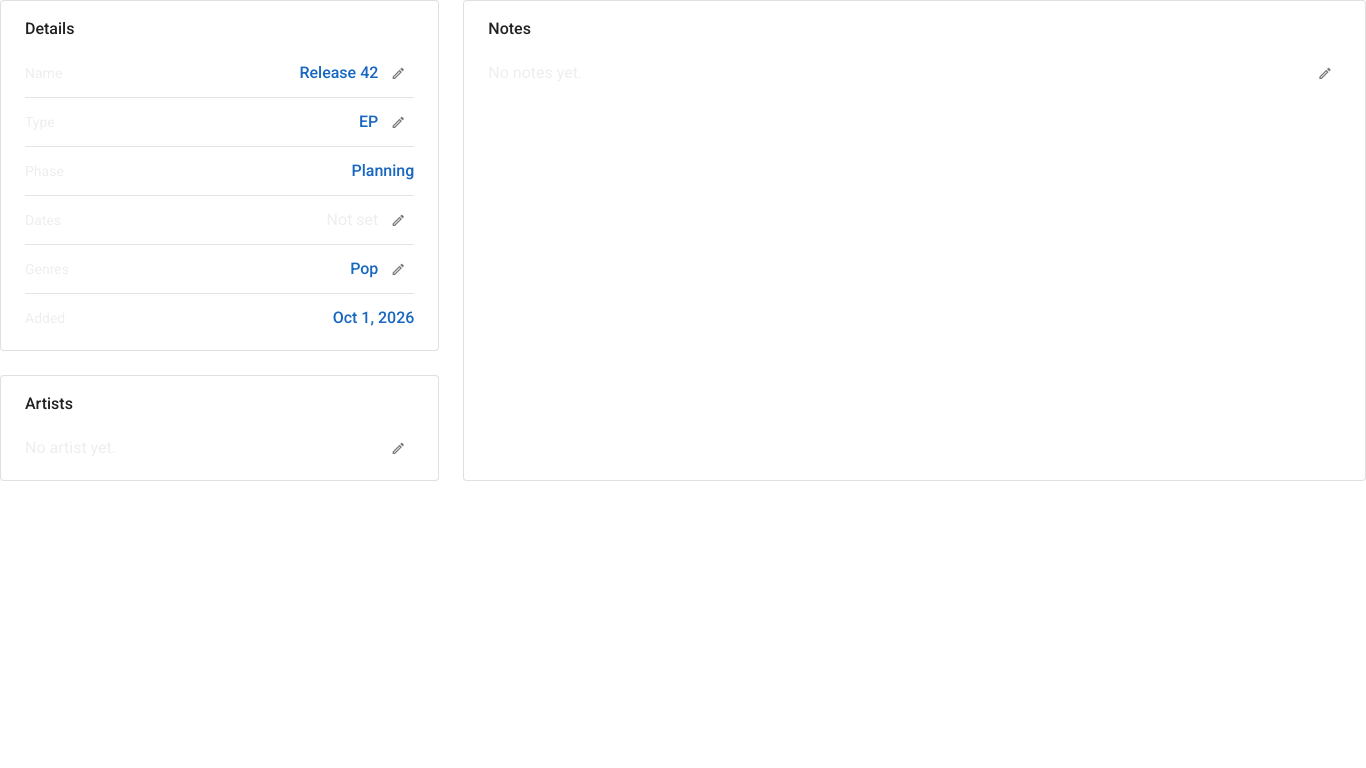
Test: ReleaseOverviewTab › editors › offers every release type and starts from the current one
Click the button named "Edit type".
click(398, 122)  # box x1=382 y1=106 x2=414 y2=138
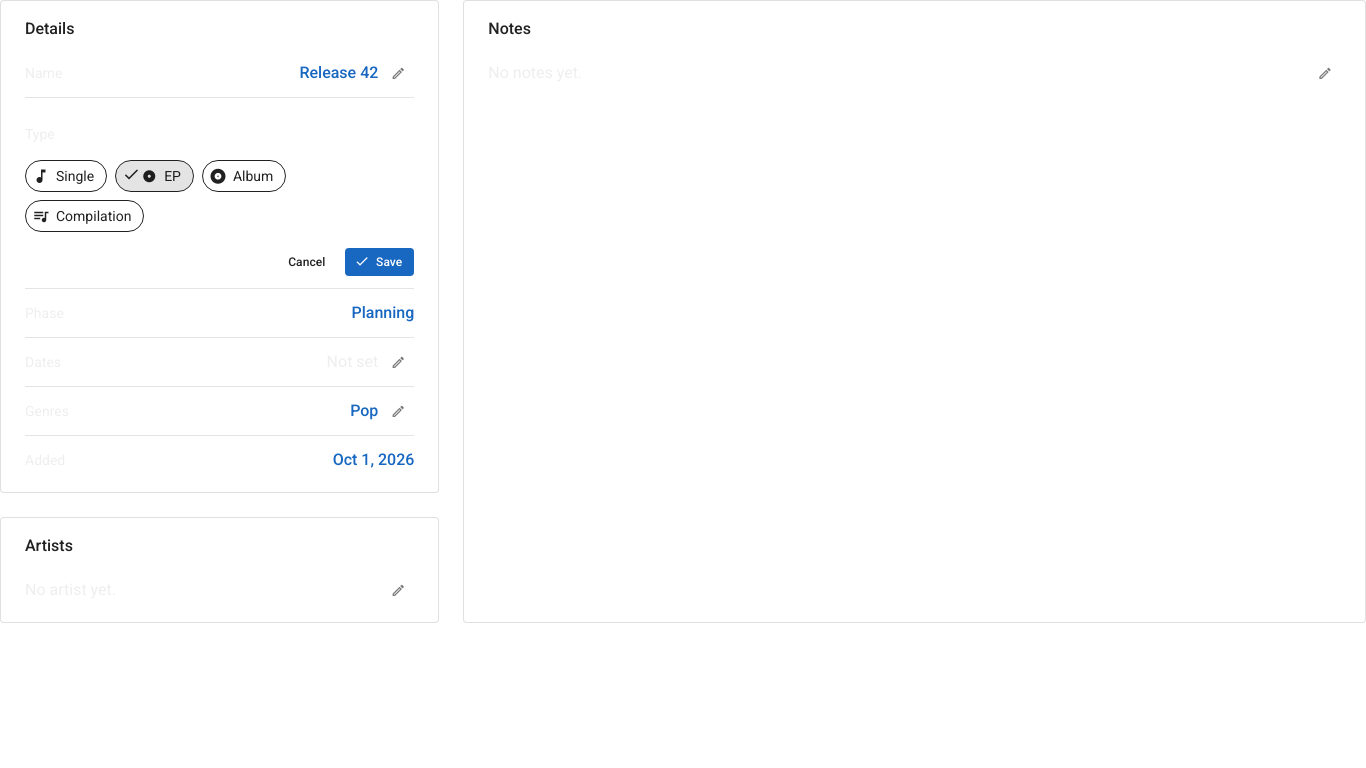
Now the number of "VChip" components is 4, box x1=25 y1=160 x2=107 y2=192; x1=115 y1=160 x2=194 y2=192; x1=202 y1=160 x2=286 y2=192; x1=25 y1=200 x2=144 y2=232
